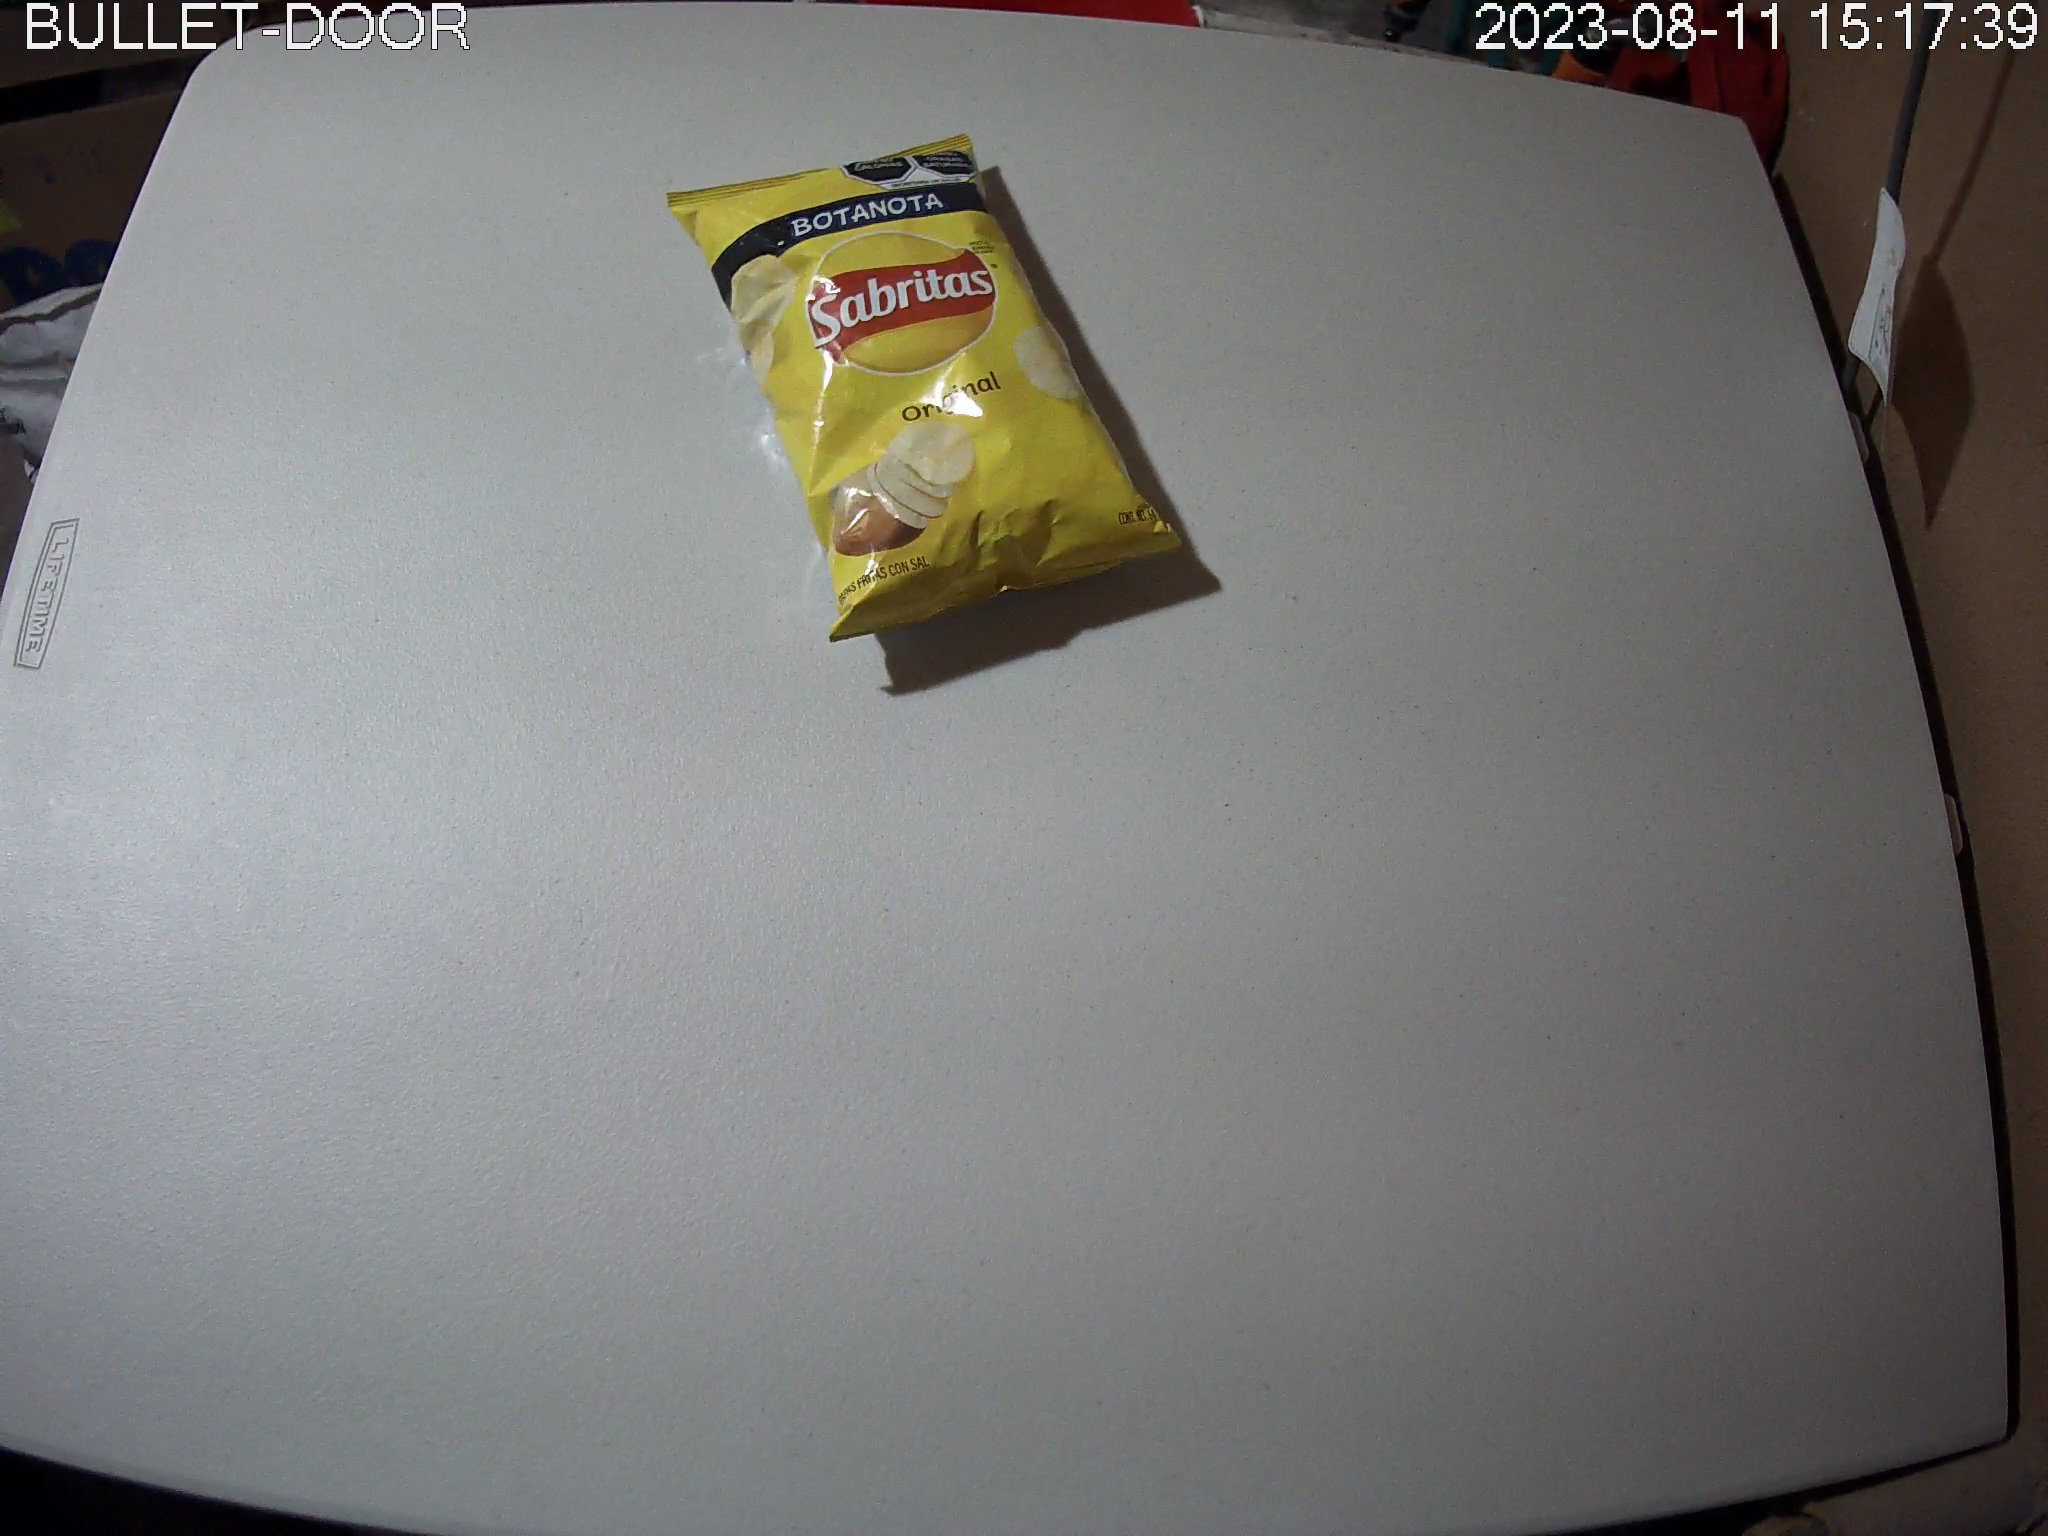Sabritas_64_F: (664, 131, 1185, 645)
